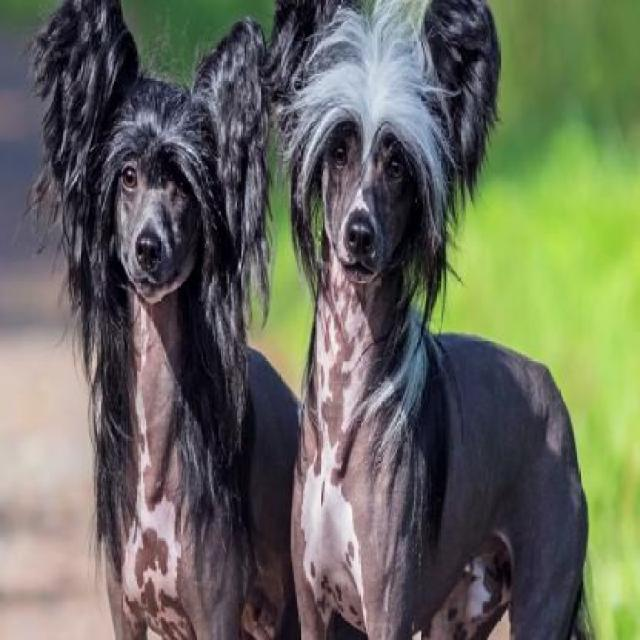animals: (254, 21, 611, 640), (20, 1, 287, 640)
